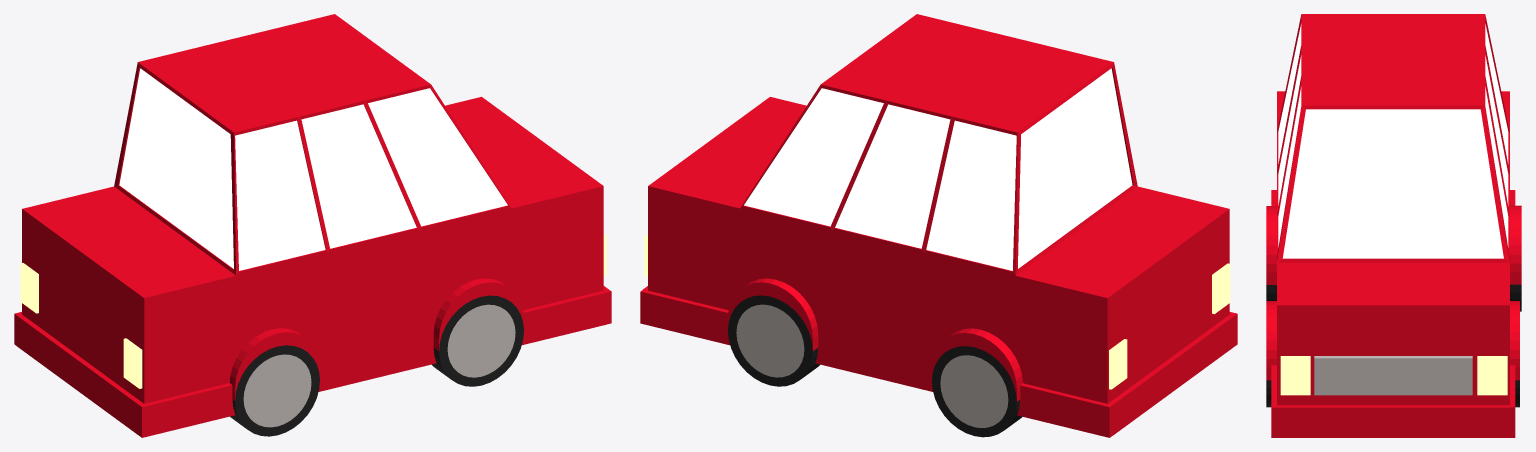
The model's file is lowPolyCar2OLD.gltf.
The picture shows the model from 3 angles, left to right: view 1: azimuth 30°, elevation 25°; view 2: azimuth 150°, elevation 25°; view 3: azimuth 270°, elevation 25°; orthographic projection. The views are drawn at different scales.
Parts seen in each view (by area): view 1: Cube, Cylinder, Cylinder.001, Cube.006, Cube.007; view 2: Cube, Cylinder.003, Cylinder.002, Cube.006, Cube.007; view 3: Cube, Cube.001, Cube.003, Cube.002, Cylinder.003, Cylinder.001, Cylinder, Cylinder.002.
Boxes of the visible parts, <box> form: Cube: <box>14,14,611,437</box>; Cylinder: <box>431,278,523,386</box>; Cylinder.001: <box>229,328,319,436</box>; Cube.006: <box>123,338,142,388</box>; Cube.007: <box>20,263,38,313</box>; Cube: <box>640,14,1237,437</box>; Cylinder.003: <box>932,328,1022,437</box>; Cylinder.002: <box>728,278,819,386</box>; Cube.006: <box>1212,263,1230,314</box>; Cube.007: <box>1109,339,1127,389</box>; Cube: <box>1271,14,1515,437</box>; Cube.001: <box>1314,356,1472,395</box>; Cube.003: <box>1477,356,1507,395</box>; Cube.002: <box>1280,356,1310,395</box>; Cylinder.003: <box>1510,205,1521,311</box>; Cylinder.001: <box>1266,206,1276,300</box>; Cylinder: <box>1266,301,1276,407</box>; Cylinder.002: <box>1510,301,1519,407</box>.
Bounding box in the file's own units: 3.75 × 2.25 × 1.85.
